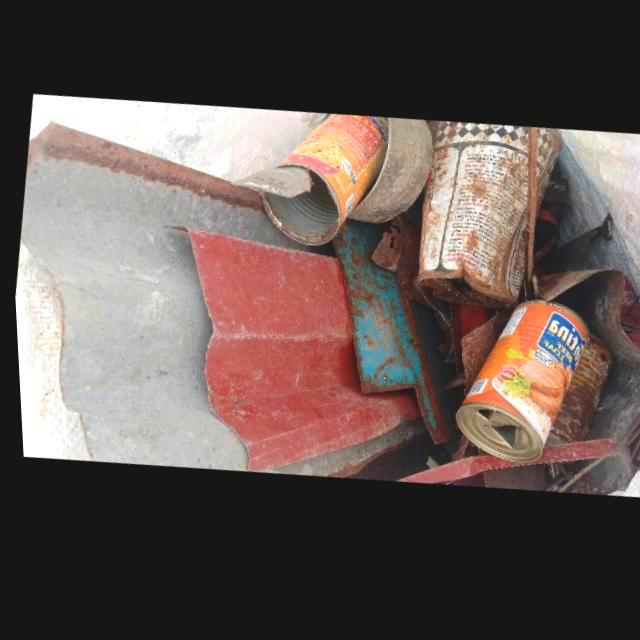aluminum: (413, 127, 559, 316), (451, 308, 584, 472), (229, 119, 387, 251), (539, 342, 609, 456)
